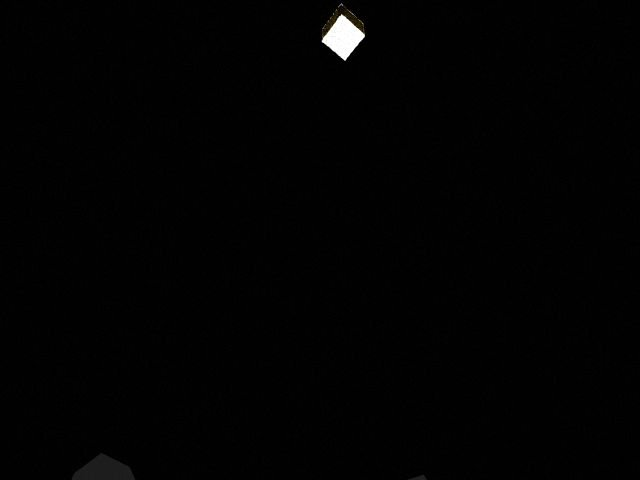cubesat: (317, 2, 367, 64)
